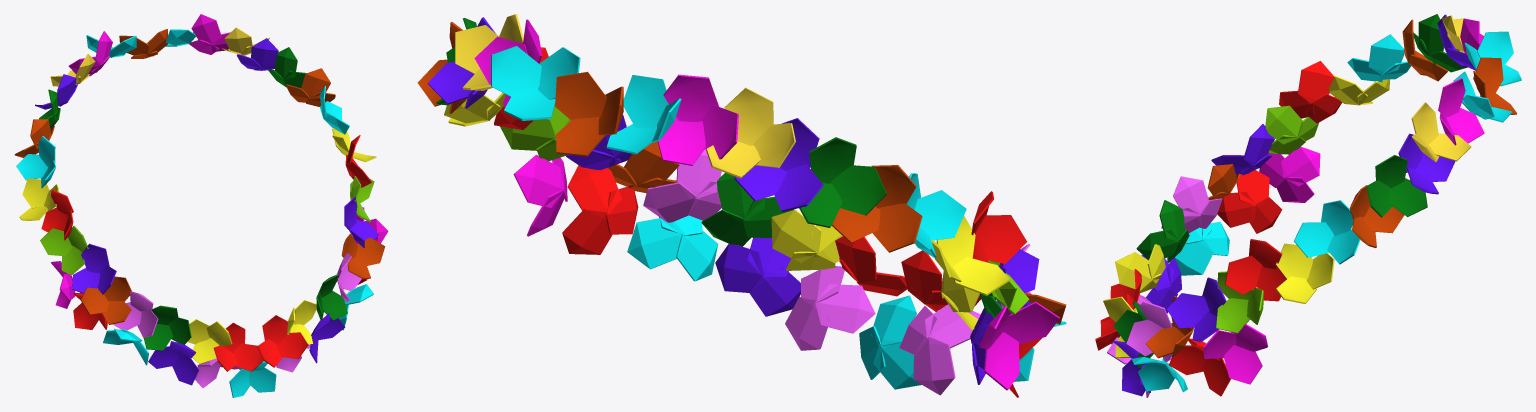
File: Flower.FBX
3 views of the same model, side by side, from view 1: azimuth 30°, elevation 25°; view 2: azimuth 150°, elevation 25°; view 3: azimuth 270°, elevation 25° (orthographic). The views are drawn at different scales.
Visible parts, largest first — view 1: Line001; view 2: Line001; view 3: Line001.
Part boxes in pixels (left/top/right/bottom): Line001: left=14, top=14, right=388, bottom=397; Line001: left=417, top=14, right=1066, bottom=397; Line001: left=1095, top=14, right=1521, bottom=397.
Size of the model in its own units: 1.27 by 1.1 by 0.9975.
